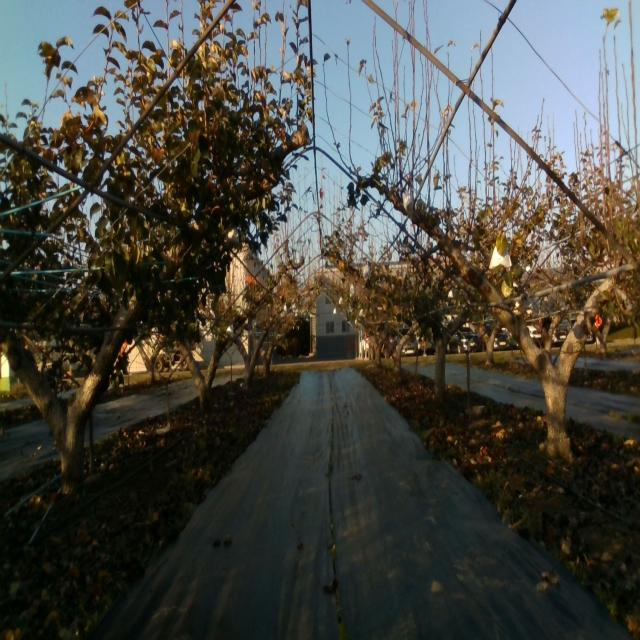pearbags: (488, 244, 512, 270), (225, 223, 239, 246), (403, 192, 414, 220)
